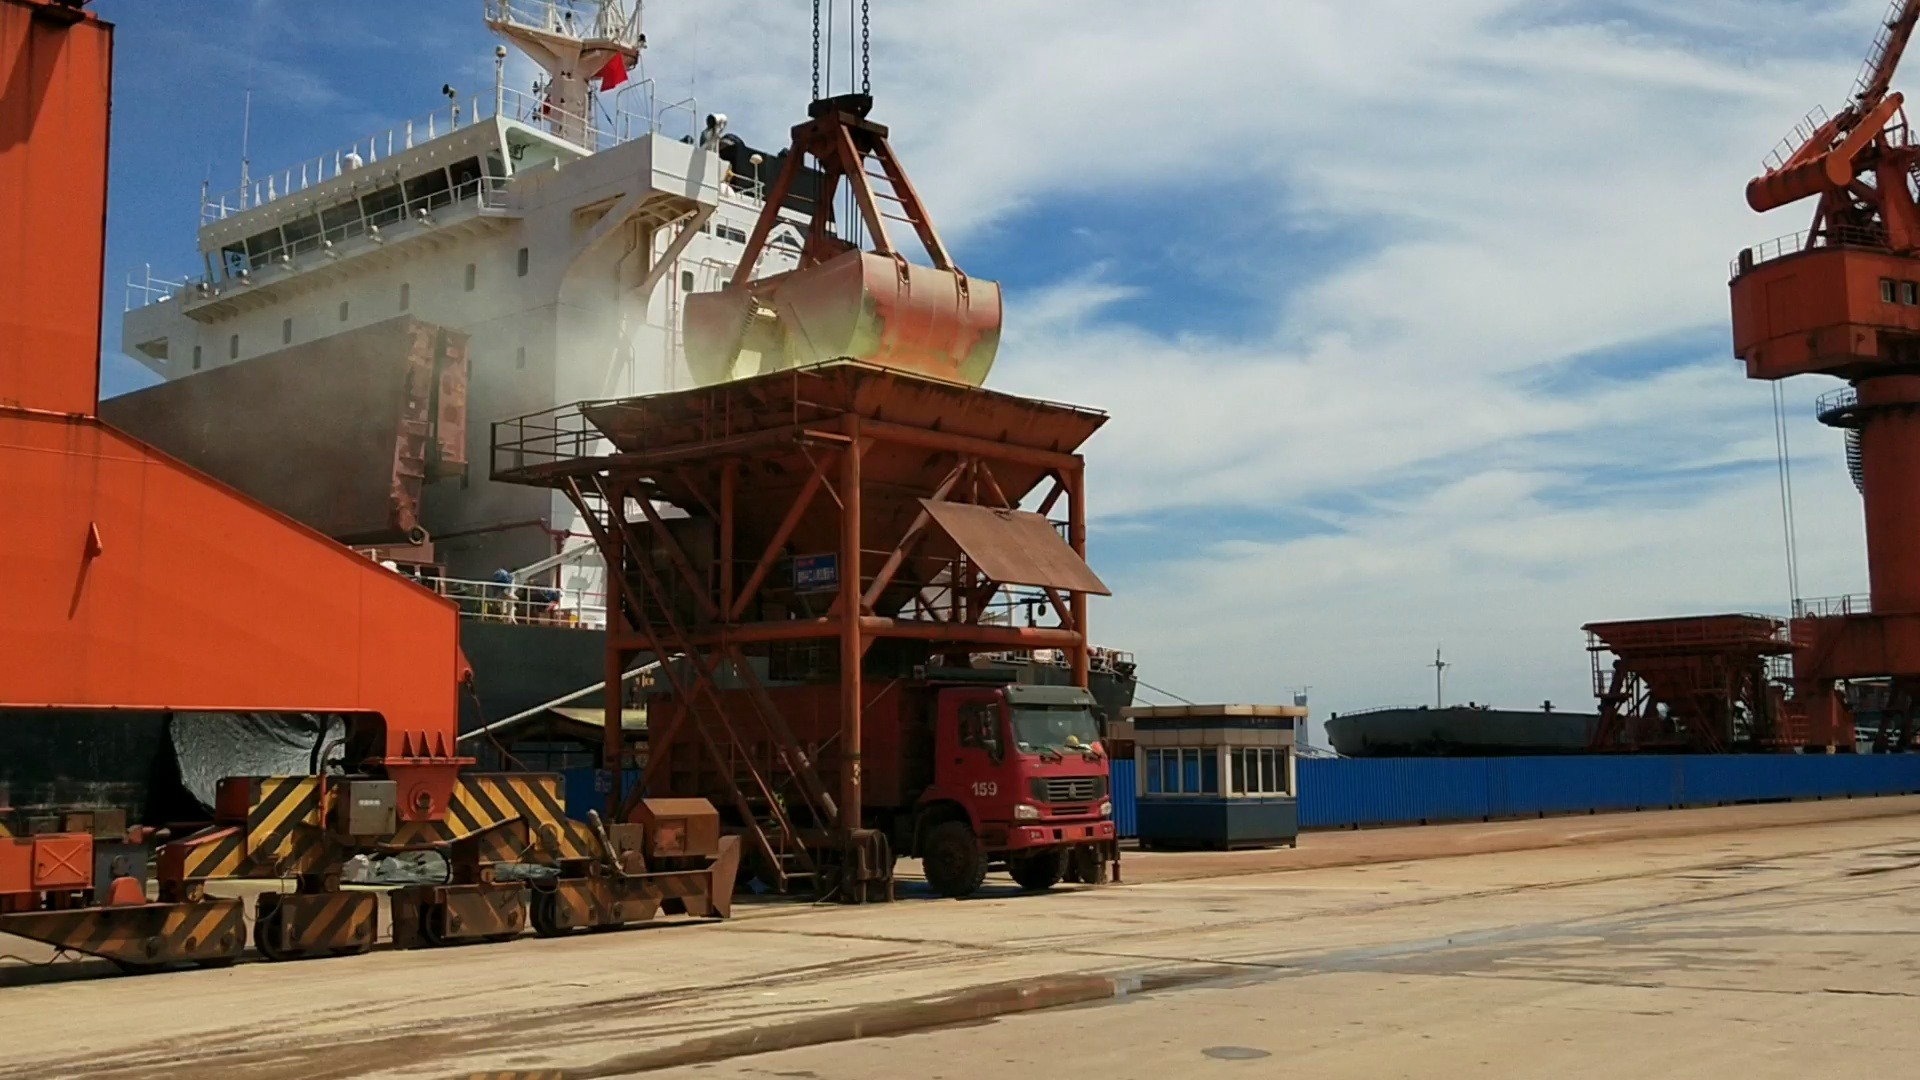dust: (468, 289, 669, 397)
grab: (673, 79, 1006, 397)
truck: (848, 663, 1138, 894)
